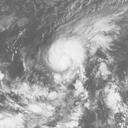cyclone: (46, 36, 84, 74)
